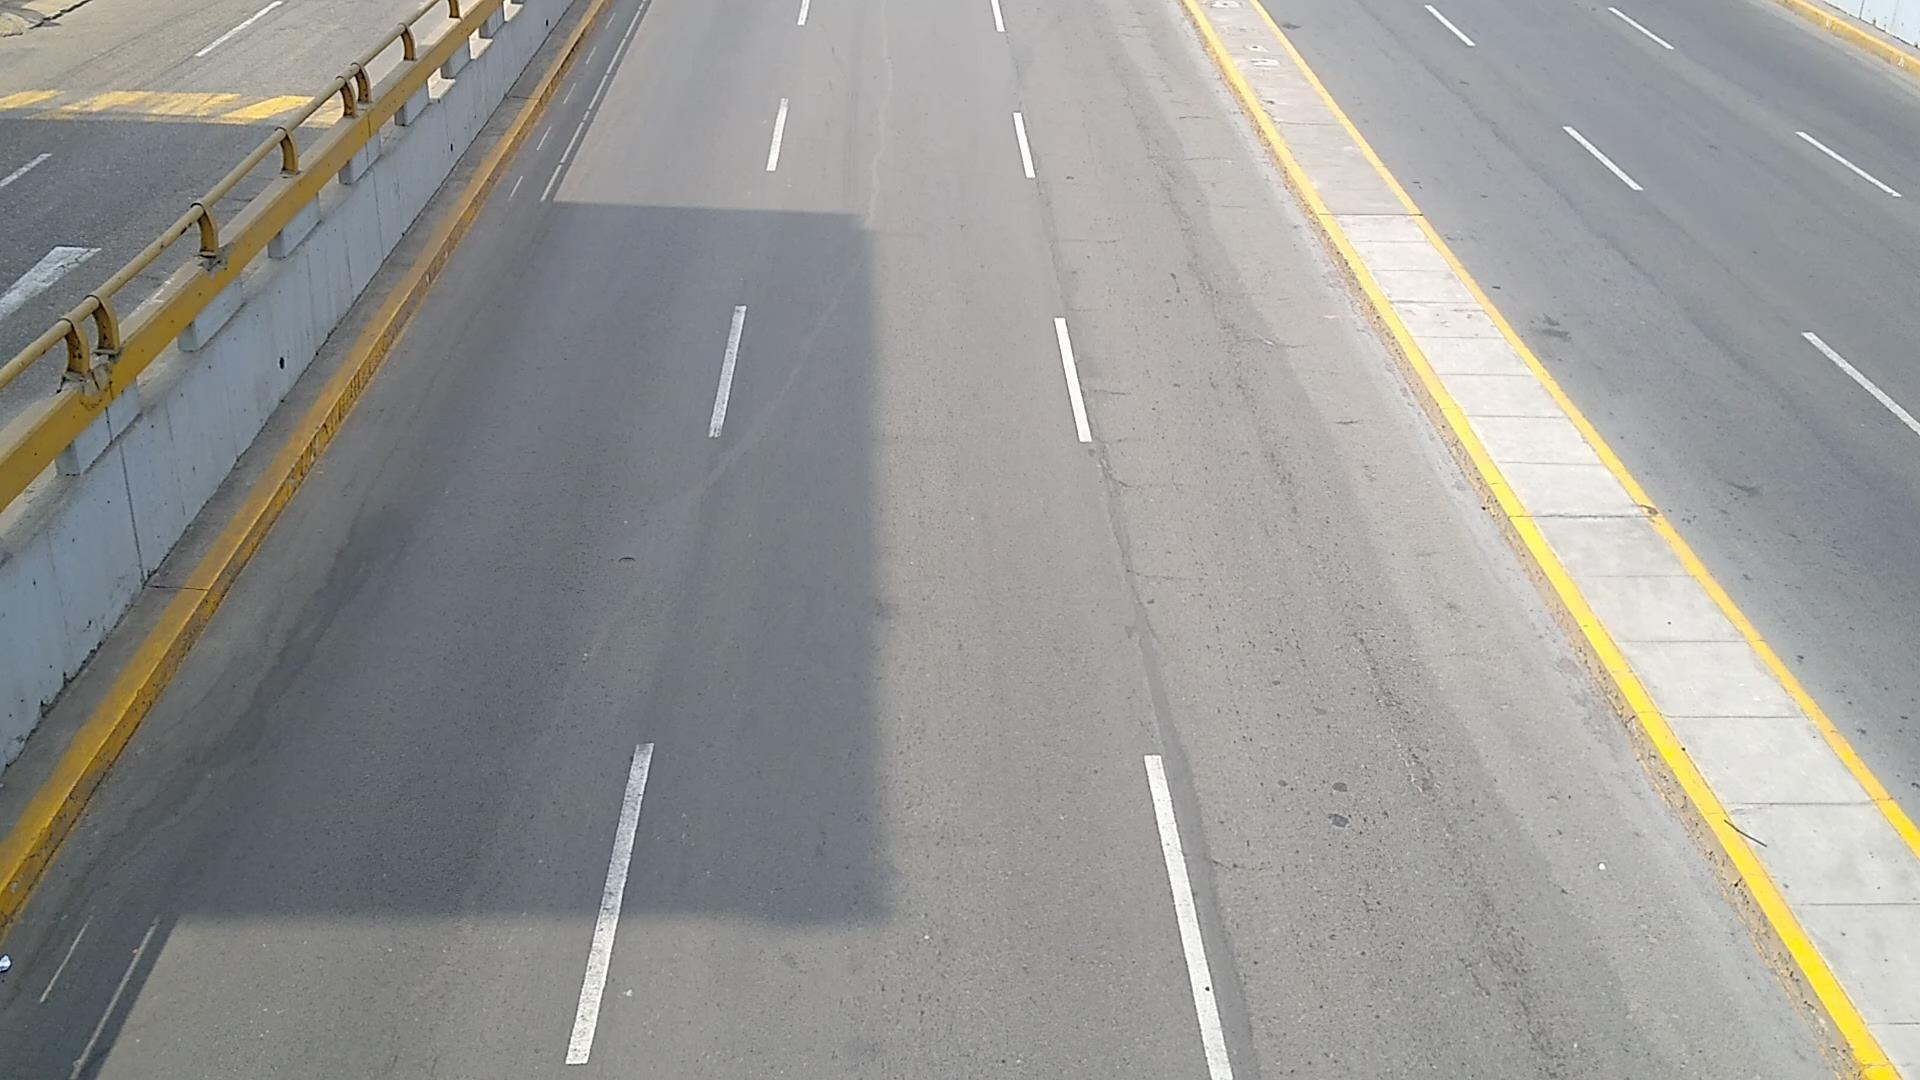car: (0, 0, 419, 359)
